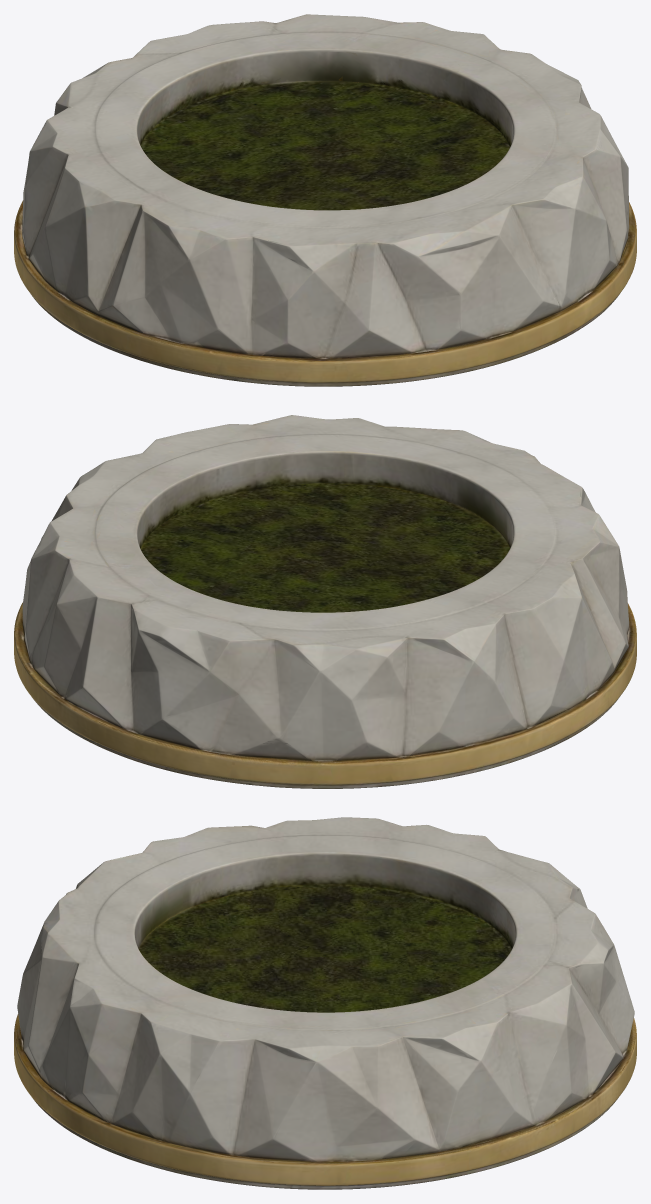
The model's file is pedestal.glb.
The picture shows the model from 3 angles, top to bottom: view 1: azimuth 30°, elevation 25°; view 2: azimuth 150°, elevation 25°; view 3: azimuth 270°, elevation 25°; orthographic projection.
Parts seen in each view (by area): view 1: node_0; view 2: node_0; view 3: node_0.
Boxes of the visible parts, box(x1,y1,x2,y2) form: node_0: box(14, 14, 636, 386); node_0: box(14, 415, 636, 788); node_0: box(14, 817, 636, 1189).
Bounding box in the file's own units: 1.18 × 0.2672 × 1.18.
1 material, 1 textured.
